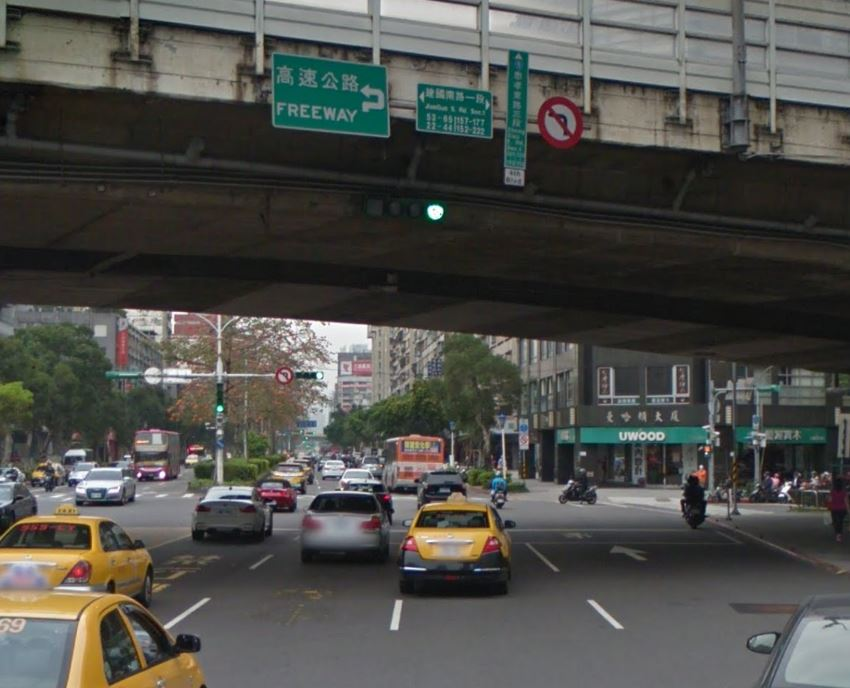No_left_turn: (536, 97, 585, 148)
Traffic_light_green: (362, 194, 448, 223)
